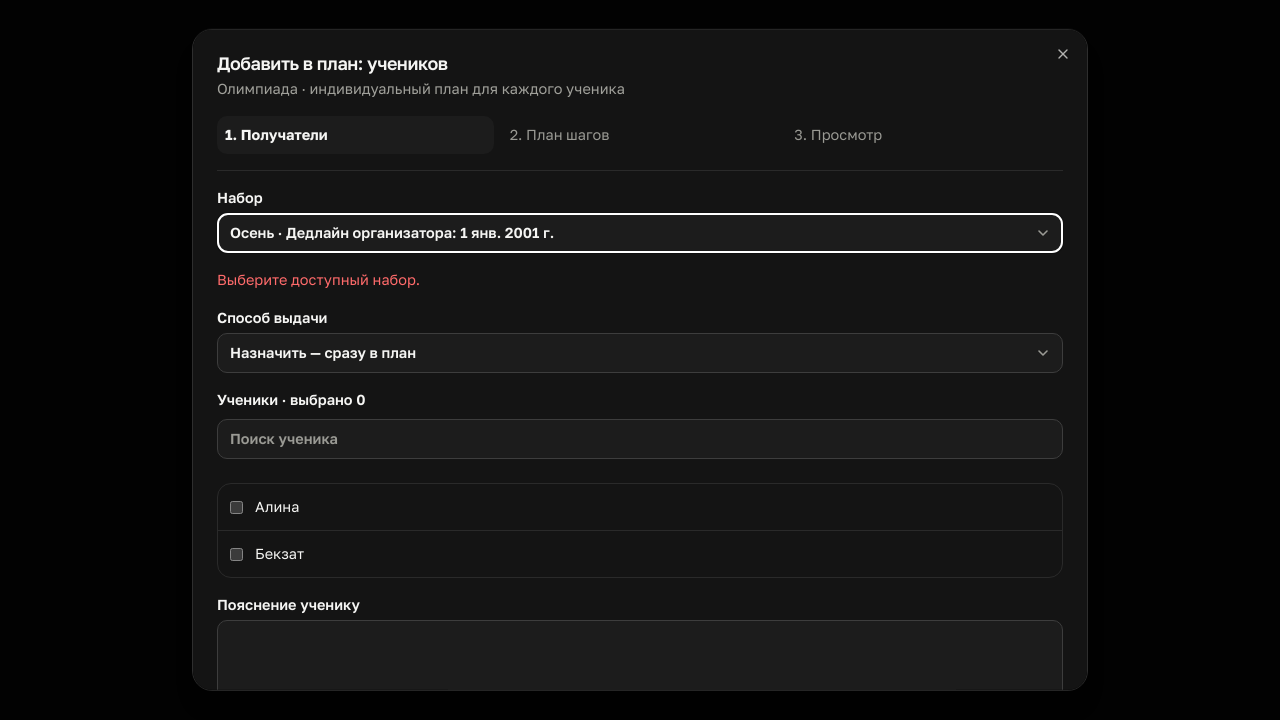
Test: недоступный набор не позволяет выдать план
The image size is (1280, 720).
Click the checkbox labelled "Алина". click: (236, 507)
box: [230, 500, 243, 513]
(page scrolled)
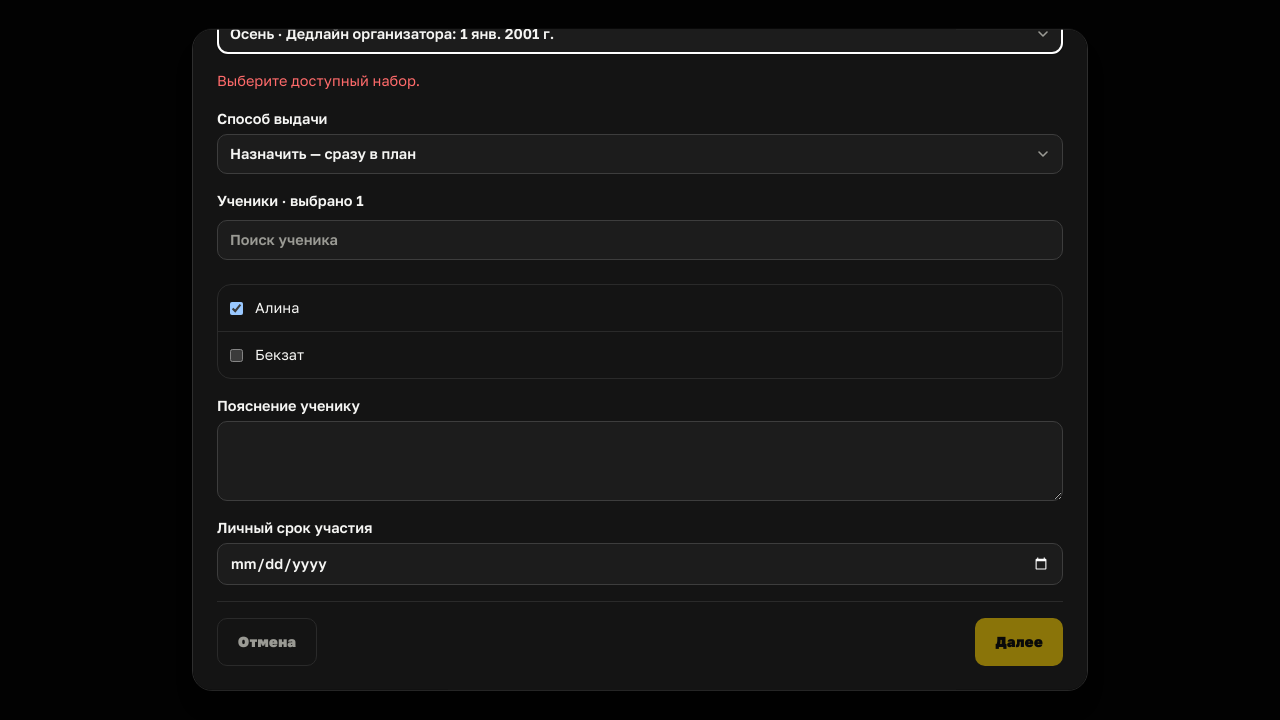
Check: the button "Далее" is disabled, box [975, 618, 1063, 666]
